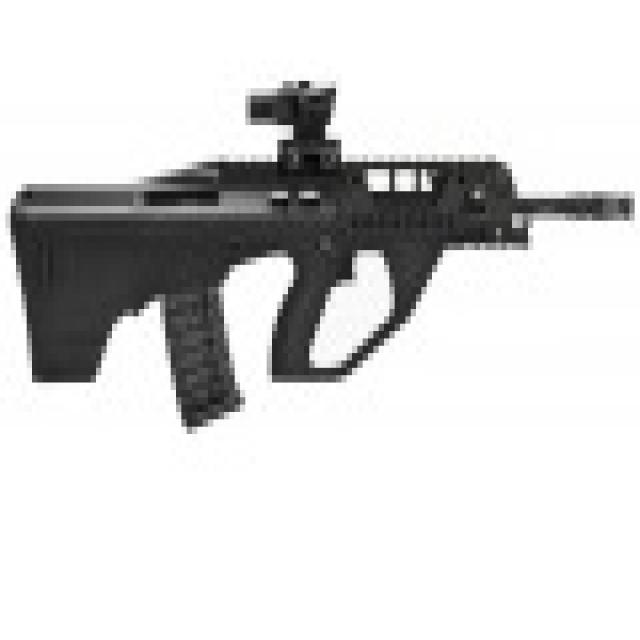Gun: (0, 73, 640, 462)
